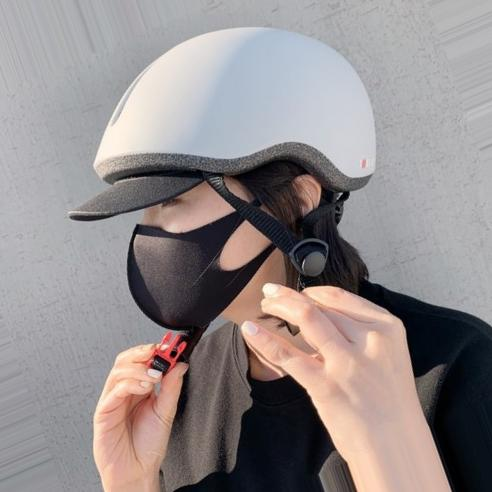with helmet: (67, 27, 378, 342)
